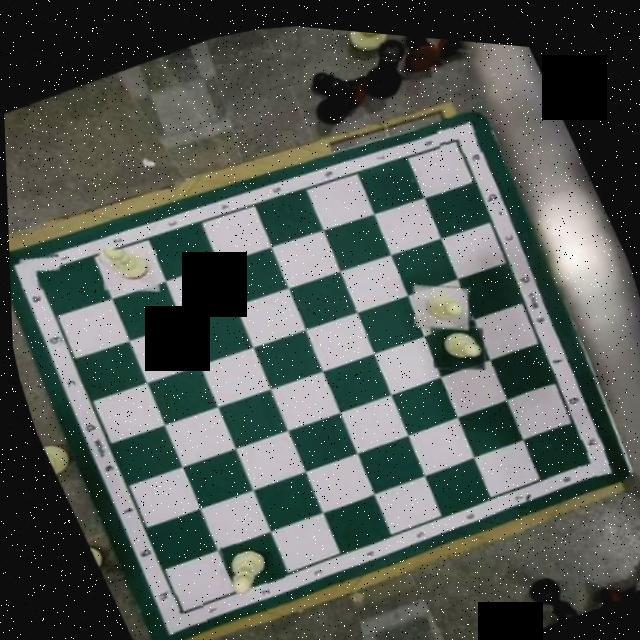chess-table-corners: (9, 243, 64, 298), (564, 421, 612, 473), (431, 106, 484, 152), (152, 582, 202, 628)
